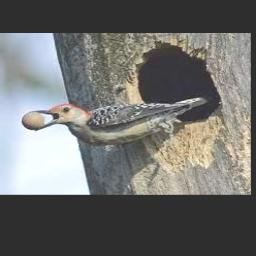Woodpecker: (29, 96, 207, 146)
